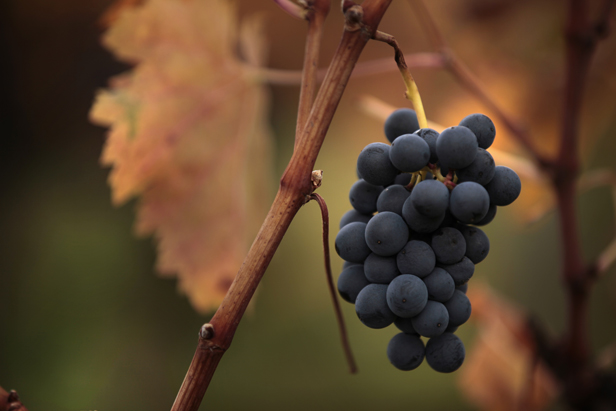Black grapes: (334, 103, 525, 381)
